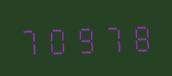eight: (126, 18, 152, 53)
nine: (72, 20, 98, 55)
seven: (18, 22, 44, 57), (99, 19, 125, 54)
zero: (45, 21, 71, 56)
